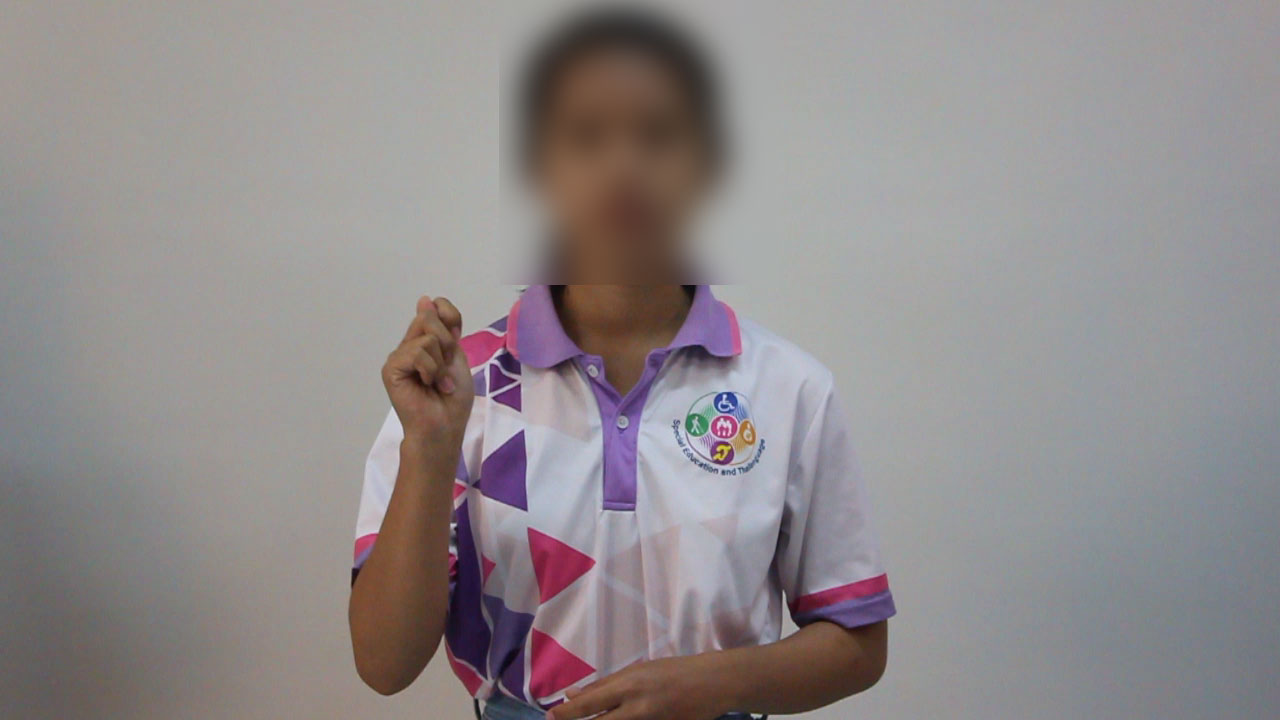tor: (359, 285, 505, 465)
